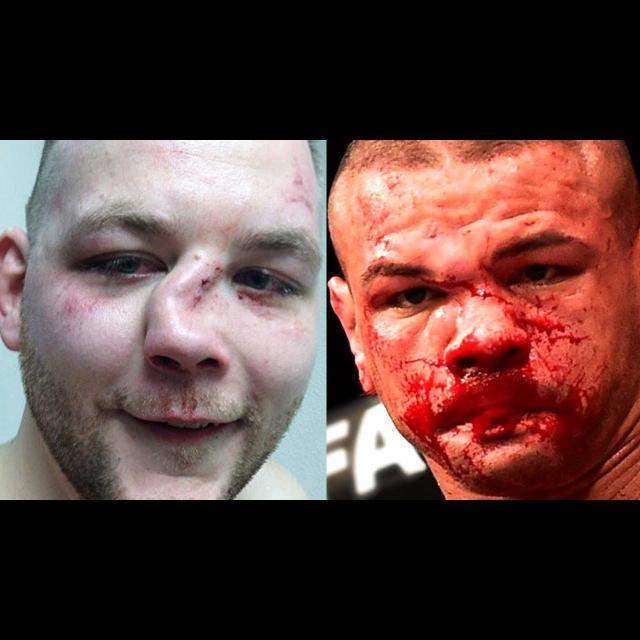blood: (338, 210, 620, 497), (144, 374, 211, 429), (185, 254, 225, 310), (237, 284, 285, 319)
